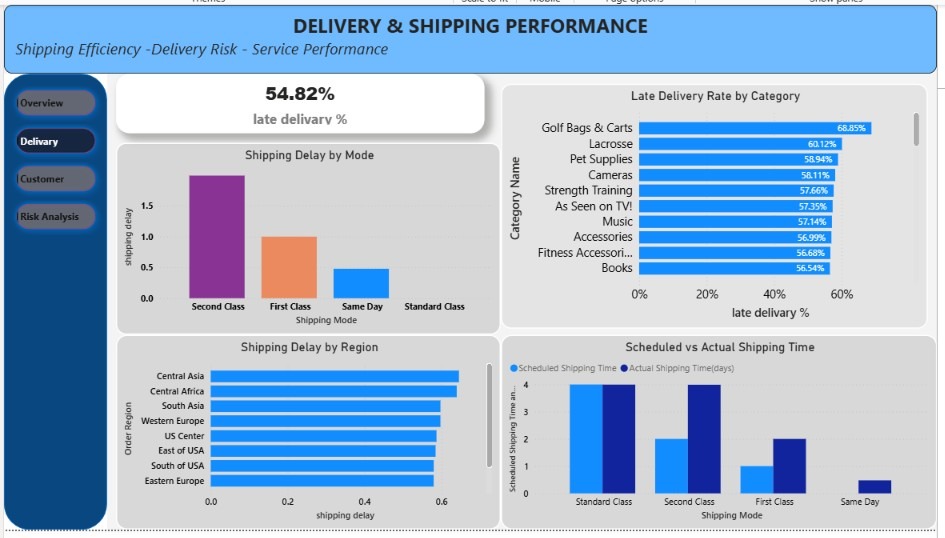

What the dashboard file says about the page in this screenshot:
{"tool":"powerbi","page":{"name":"Delivary","canvas":[1280,720],"ordinal":1},"visuals":[{"type":"clusteredColumnChart","title":"Scheduled vs Actual Shipping Time","fields":{"Category":["DataCoSupplyChainDataset (2).Shipping Mode"],"Y":["DataCoSupplyChainDataset (2).Scheduled Shipping Time","DataCoSupplyChainDataset (2).Actual Shipping Time"]},"box":[682,452.8,598.3,267.6],"z":0},{"type":"card","fields":{"Values":["DataCoSupplyChainDataset (2).late delivary %"]},"box":[153.2,95.3,505.5,81.7],"z":1000},{"type":"clusteredColumnChart","title":"Shipping Delay by Mode","fields":{"Category":["DataCoSupplyChainDataset (2).Shipping Mode"],"Y":["DataCoSupplyChainDataset (2).shipping delay"]},"box":[153.7,189.4,528.3,263.5],"z":2000},{"type":"clusteredBarChart","title":"Shipping Delay by Region","fields":{"Category":["DataCoSupplyChainDataset (2).Order Region"],"Y":["DataCoSupplyChainDataset (2).shipping delay"]},"box":[153.7,452.8,528.3,267.6],"z":3000},{"type":"clusteredBarChart","title":"Late Delivery Rate by Category","fields":{"Category":["DataCoSupplyChainDataset (2).Category Name"],"Y":["DataCoSupplyChainDataset (2).late delivary %"]},"box":[682,108.4,585.9,336.2],"z":4000},{"type":"textbox","box":[0,0,1280.3,94.7],"z":5000},{"type":"shape","box":[0,94.7,141.3,625.7],"z":10000},{"type":"pageNavigator","box":[8.2,108.4,126.2,209.9],"z":11000}]}

Visuals, with their boxes on the page's 1280x720 design canvas (x1, y1, x2, y2). These are canvas units, not pixel positions in the 945x538 screenshot, which may show the page scaled, cropped or inside an application window:
"Scheduled vs Actual Shipping Time" clusteredColumnChart: 682,453,1280,720
card - DataCoSupplyChainDataset (2).late delivary %: 153,95,659,177
"Shipping Delay by Mode" clusteredColumnChart: 154,189,682,453
"Shipping Delay by Region" clusteredBarChart: 154,453,682,720
"Late Delivery Rate by Category" clusteredBarChart: 682,108,1268,445
textbox: 0,0,1280,95
shape: 0,95,141,720
pageNavigator: 8,108,134,318
